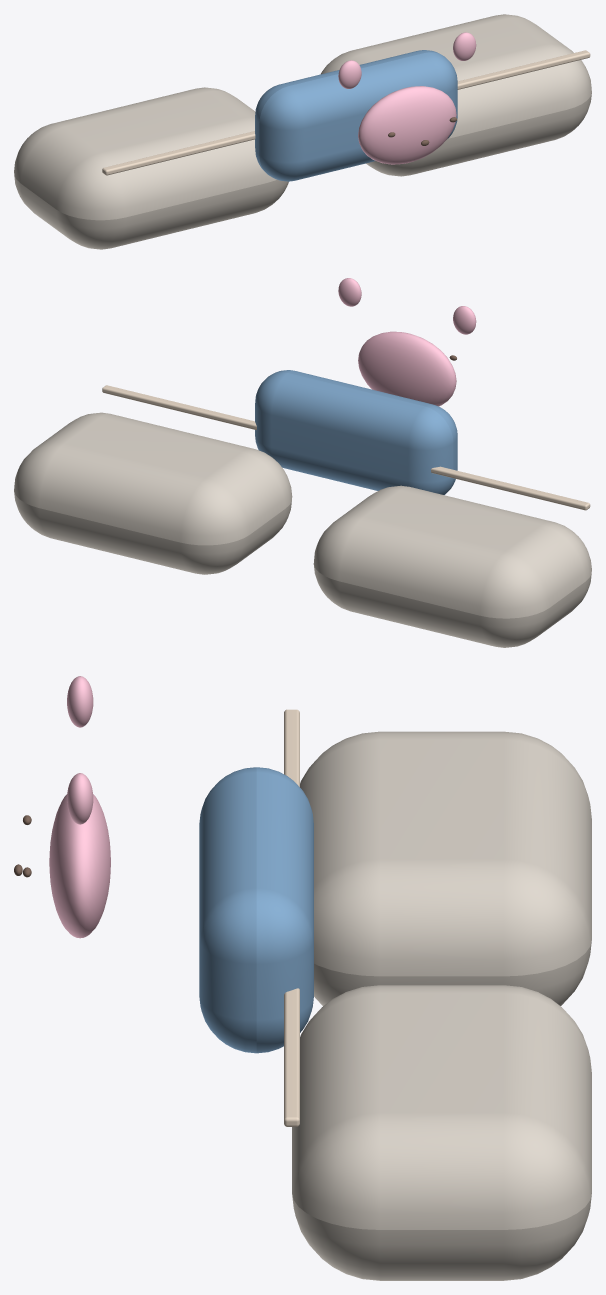
File: 目标图床头枕头组.fbx
3 renders of one model, top to bottom at view 1: azimuth 30°, elevation 25°; view 2: azimuth 150°, elevation 25°; view 3: azimuth 270°, elevation 25°, orthographic. The views are drawn at different scales.
Visible parts, largest first — view 1: 目标图床头枕头组_左奶油枕头, 目标图床头枕头组_右奶油枕头, 目标图床头枕头组_海蓝小靠枕, 目标图床头枕头组_粉色猫抱枕身体, 目标图床头枕头组_左枕缝边, 目标图床头枕头组_右枕缝边, 目标图床头枕头组_粉色猫左耳, 目标图床头枕头组_粉色猫右耳; view 2: 目标图床头枕头组_右奶油枕头, 目标图床头枕头组_左奶油枕头, 目标图床头枕头组_海蓝小靠枕, 目标图床头枕头组_粉色猫抱枕身体, 目标图床头枕头组_左枕缝边, 目标图床头枕头组_右枕缝边, 目标图床头枕头组_粉色猫右耳, 目标图床头枕头组_粉色猫左耳; view 3: 目标图床头枕头组_右奶油枕头, 目标图床头枕头组_左奶油枕头, 目标图床头枕头组_海蓝小靠枕, 目标图床头枕头组_粉色猫抱枕身体, 目标图床头枕头组_右枕缝边, 目标图床头枕头组_左枕缝边, 目标图床头枕头组_粉色猫左耳, 目标图床头枕头组_粉色猫右耳.
Boxes of the visible parts, left/top/right/bottom form: 目标图床头枕头组_左奶油枕头: left=14, top=87, right=288, bottom=249; 目标图床头枕头组_右奶油枕头: left=321, top=14, right=591, bottom=176; 目标图床头枕头组_海蓝小靠枕: left=255, top=50, right=457, bottom=181; 目标图床头枕头组_粉色猫抱枕身体: left=358, top=86, right=456, bottom=164; 目标图床头枕头组_左枕缝边: left=102, top=131, right=255, bottom=175; 目标图床头枕头组_右枕缝边: left=457, top=50, right=590, bottom=89; 目标图床头枕头组_粉色猫左耳: left=338, top=60, right=361, bottom=88; 目标图床头枕头组_粉色猫右耳: left=453, top=32, right=476, bottom=60; 目标图床头枕头组_右奶油枕头: left=14, top=412, right=292, bottom=574; 目标图床头枕头组_左奶油枕头: left=313, top=485, right=591, bottom=647; 目标图床头枕头组_海蓝小靠枕: left=255, top=370, right=457, bottom=494; 目标图床头枕头组_粉色猫抱枕身体: left=358, top=331, right=456, bottom=406; 目标图床头枕头组_左枕缝边: left=431, top=466, right=590, bottom=510; 目标图床头枕头组_右枕缝边: left=102, top=385, right=256, bottom=429; 目标图床头枕头组_粉色猫右耳: left=338, top=278, right=361, bottom=306; 目标图床头枕头组_粉色猫左耳: left=453, top=306, right=476, bottom=334; 目标图床头枕头组_右奶油枕头: left=292, top=985, right=591, bottom=1280; 目标图床头枕头组_左奶油枕头: left=300, top=731, right=591, bottom=1005; 目标图床头枕头组_海蓝小靠枕: left=199, top=767, right=313, bottom=1053; 目标图床头枕头组_粉色猫抱枕身体: left=49, top=794, right=110, bottom=938; 目标图床头枕头组_右枕缝边: left=284, top=988, right=299, bottom=1126; 目标图床头枕头组_左枕缝边: left=284, top=709, right=299, bottom=786; 目标图床头枕头组_粉色猫左耳: left=67, top=676, right=93, bottom=727; 目标图床头枕头组_粉色猫右耳: left=67, top=773, right=93, bottom=824.
Size of the model in its own units: 120 by 45 by 65.5.
